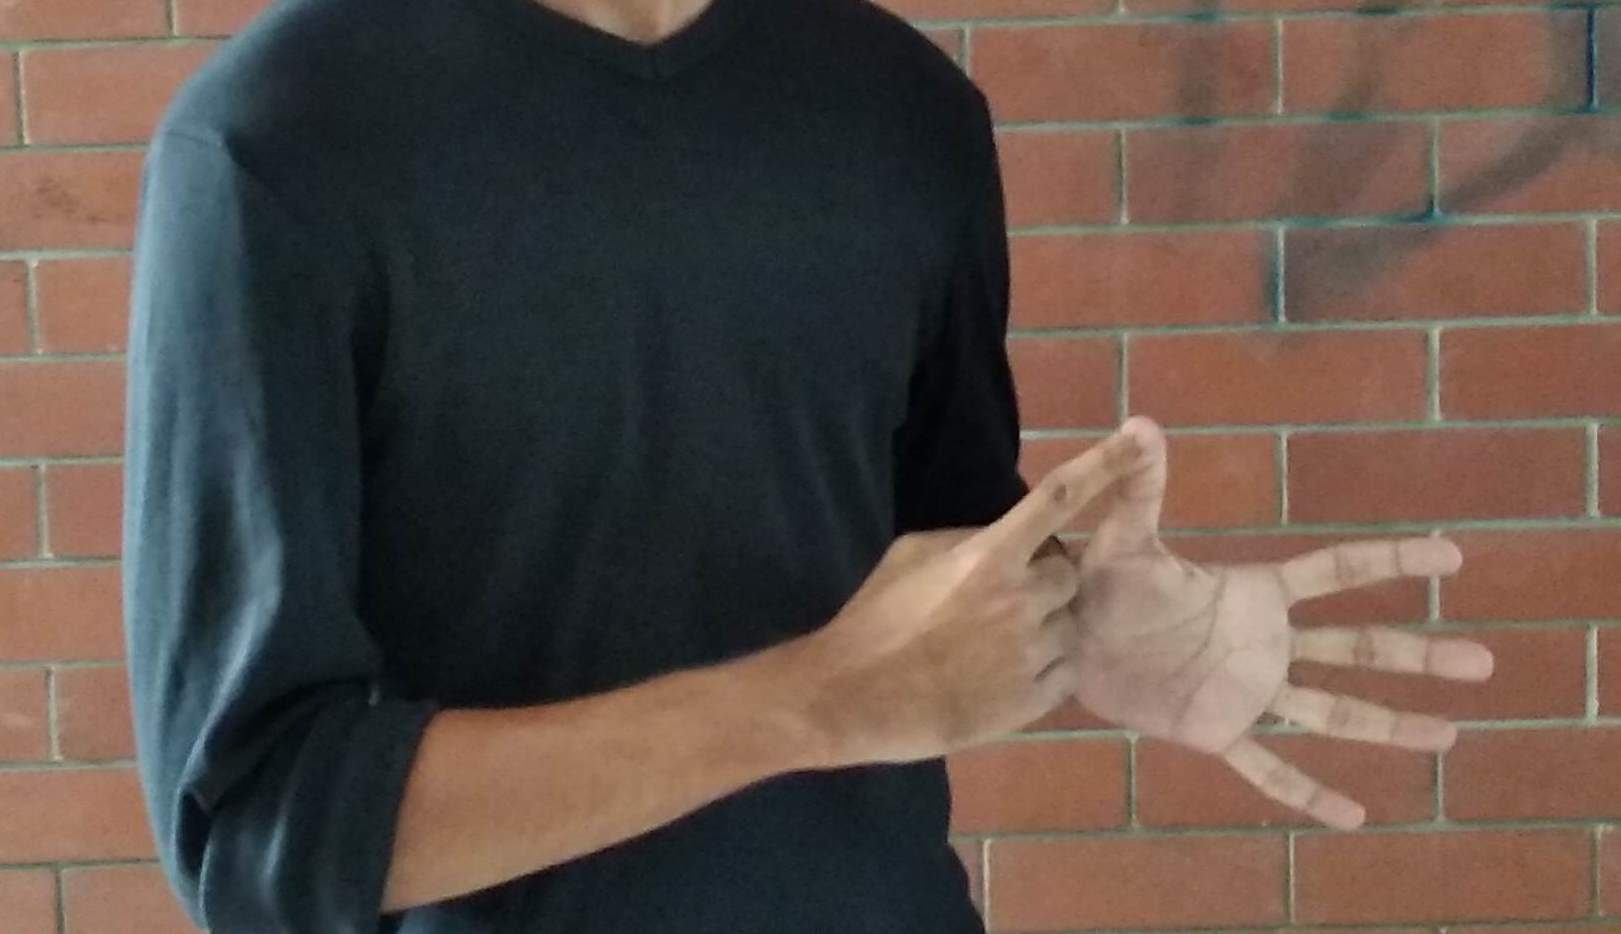a: (951, 406, 1395, 783)
